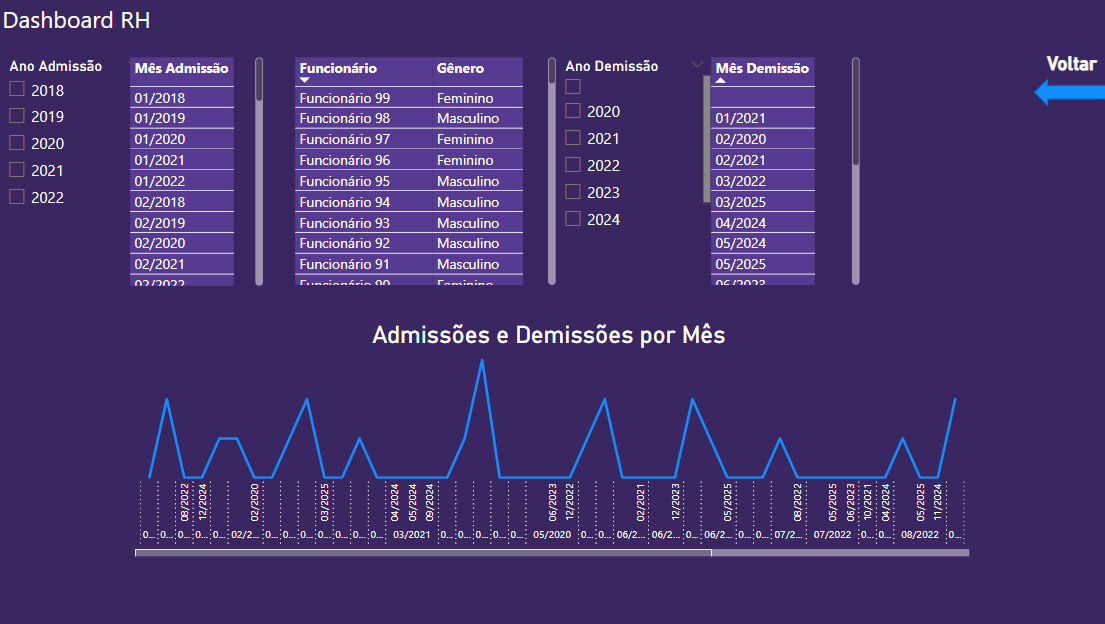

Layout of this report page (visuals, bound fields, positions):
{"tool":"powerbi","page":{"name":"Página 2","canvas":[1280,720],"ordinal":1},"visuals":[{"type":"slicer","fields":{"Values":["Dados RH.Ano Admissão"]},"box":[0,62.9,176.4,227.6],"z":0},{"type":"tableEx","fields":{"Values":["Dados RH.Mês Demissão"]},"box":[815,62.8,182.4,272.1],"z":1000},{"type":"tableEx","fields":{"Values":["Dados RH.Mês Admissão"]},"box":[145.7,62.9,164.3,272.9],"z":2000},{"type":"slicer","fields":{"Values":["Dados RH.Ano Demissão"]},"box":[640,62.8,185.4,209.3],"z":3000},{"type":"shape","title":"Voltar","box":[1192.9,62.9,87.1,61.4],"z":4000},{"type":"tableEx","fields":{"Values":["Dados RH.Funcionário","Dados RH.Gênero"]},"box":[336.4,62.8,311,272.1],"z":5000},{"type":"textbox","box":[0,0,647.1,51.4],"z":5001},{"type":"lineChart","title":"Admissões e Demissões por Mês","fields":{"Category":["Dados RH.Mês Admissão","Dados RH.Mês Demissão"],"Y":["CountNonNull(Dados RH.Departamento)"]},"box":[145,370.8,977.9,276.6],"z":5002}]}

Visuals, with their boxes in screenshot pixels (x1, y1, x2, y2), scaled from the page's 1280x720 canvas onto the 1105x624 screenshot:
slicer - Dados RH.Ano Admissão: crop(0, 55, 152, 252)
tableEx - Dados RH.Mês Demissão: crop(704, 54, 861, 290)
tableEx - Dados RH.Mês Admissão: crop(126, 55, 268, 291)
slicer - Dados RH.Ano Demissão: crop(552, 54, 713, 236)
"Voltar" shape: crop(1030, 55, 1104, 108)
tableEx - Dados RH.Funcionário x Dados RH.Gênero: crop(290, 54, 559, 290)
textbox: crop(0, 0, 559, 45)
"Admissões e Demissões por Mês" lineChart: crop(125, 321, 969, 561)
